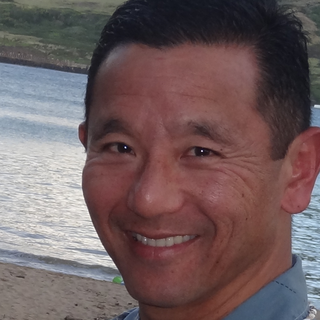eye: (176, 142, 223, 166), (99, 138, 138, 161)
